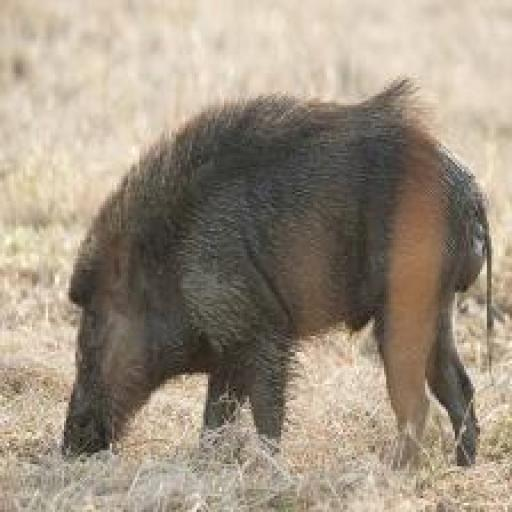Pig: (62, 76, 495, 466)
